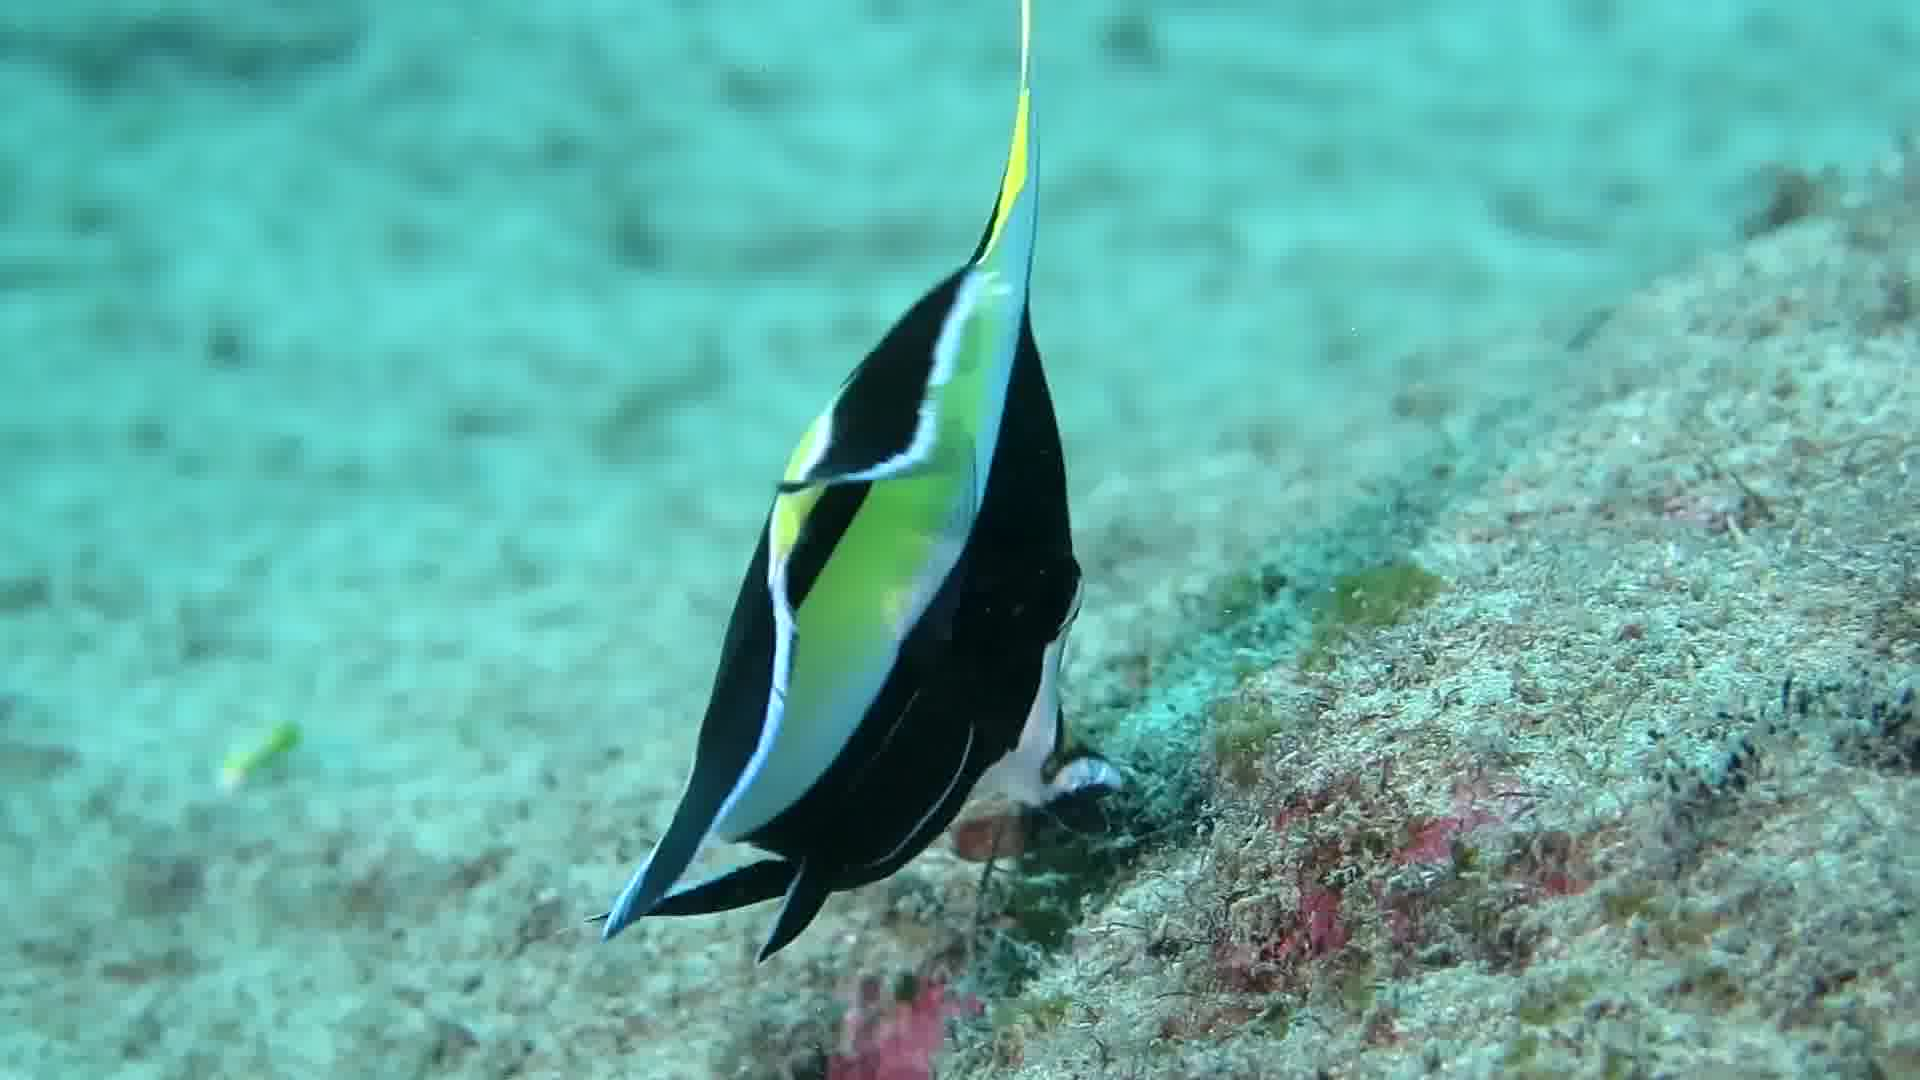Zanclus cornutus: (567, 190, 1261, 952)
